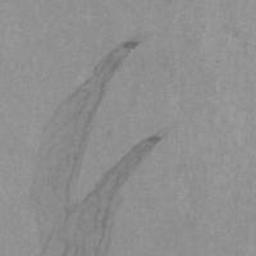Water spot: (27, 36, 169, 256)
